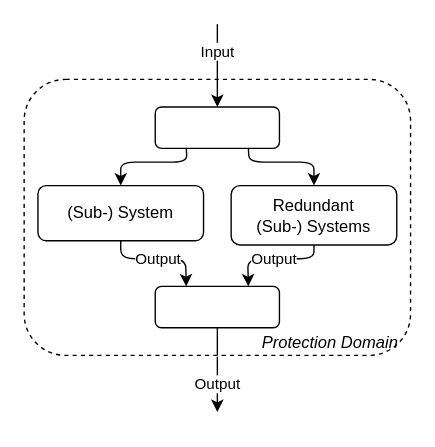
Image size: 435x447. Some labels were removed from this diagram. Each missing label, with the centre of its shape:
"Decoding" goes at point 216,306.
"Encoding" goes at point 216,127.
